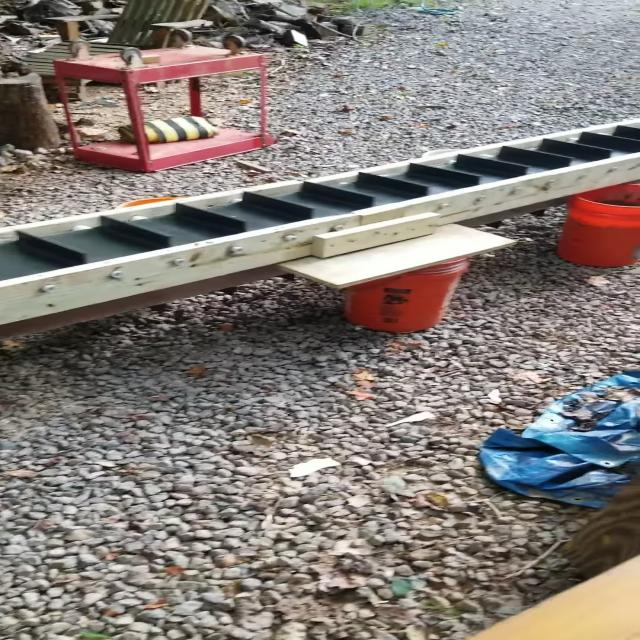Convoyeur: (0, 105, 640, 332)
